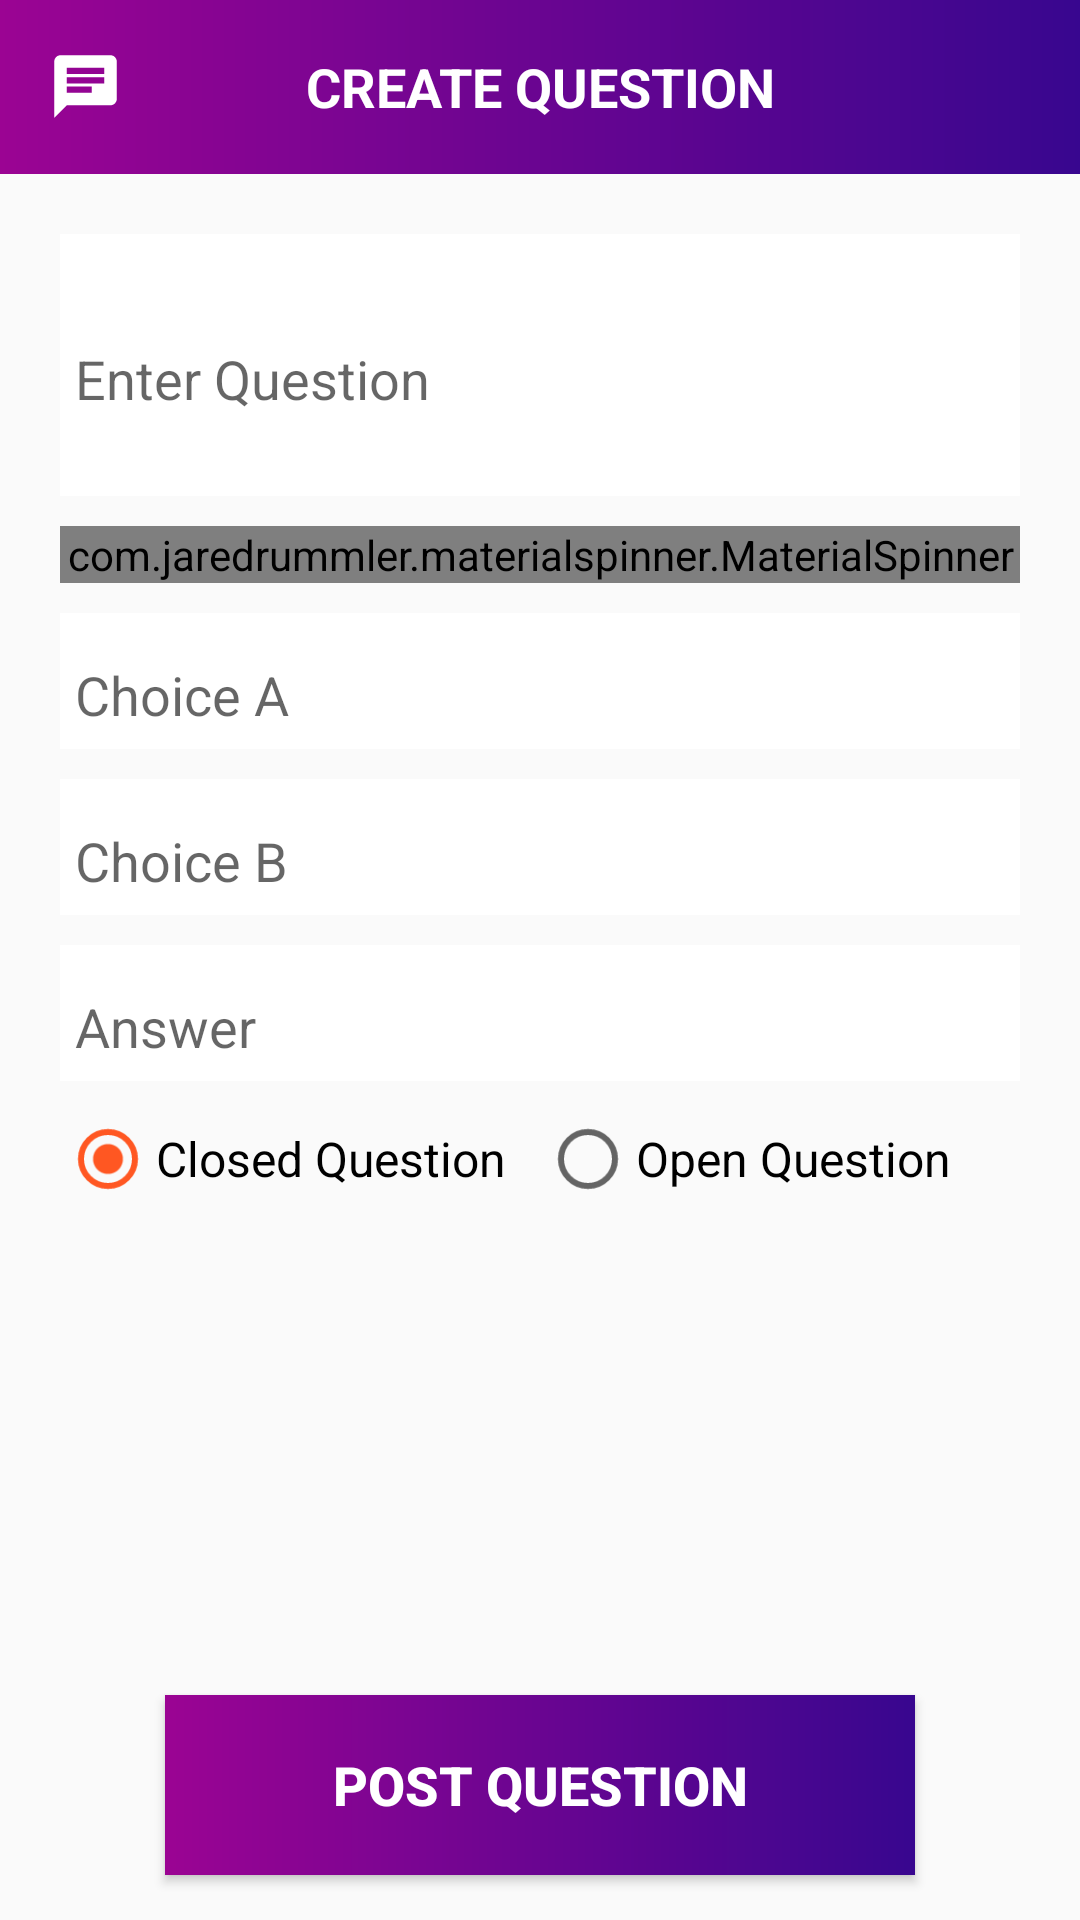

Where to tap for icons on this 1080px×1920px app screen, as [x,y]:
chat: [85,86]
